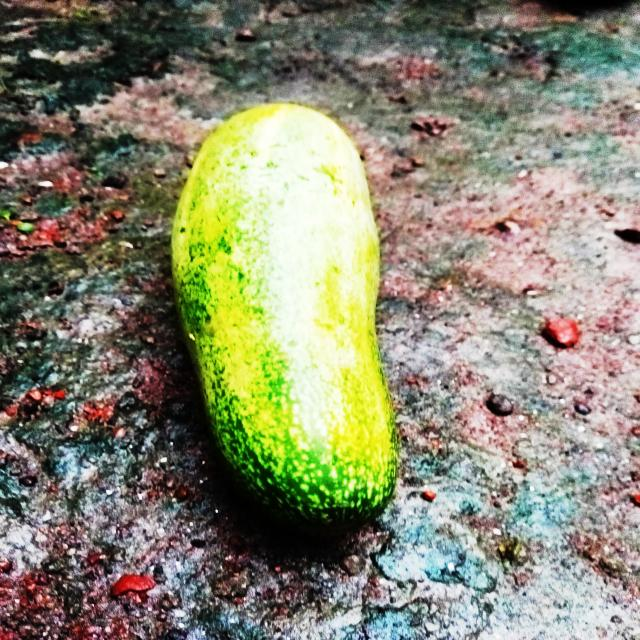Fresh-Cucumber: (166, 96, 402, 534)
